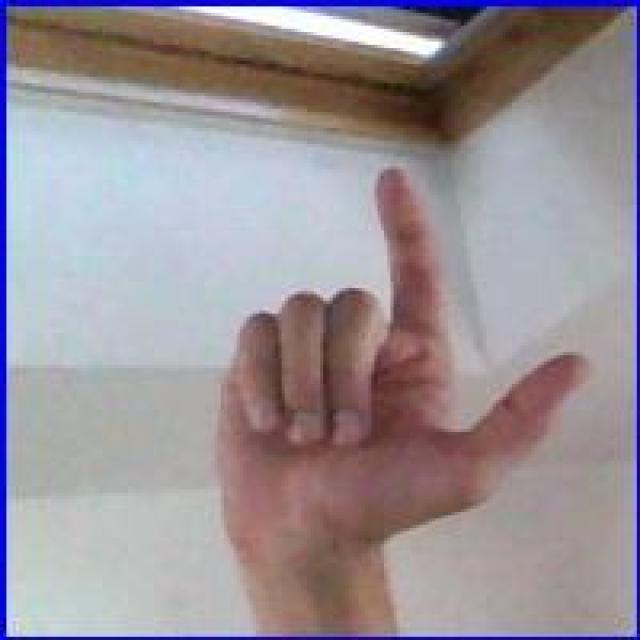L: (200, 165, 603, 590)
